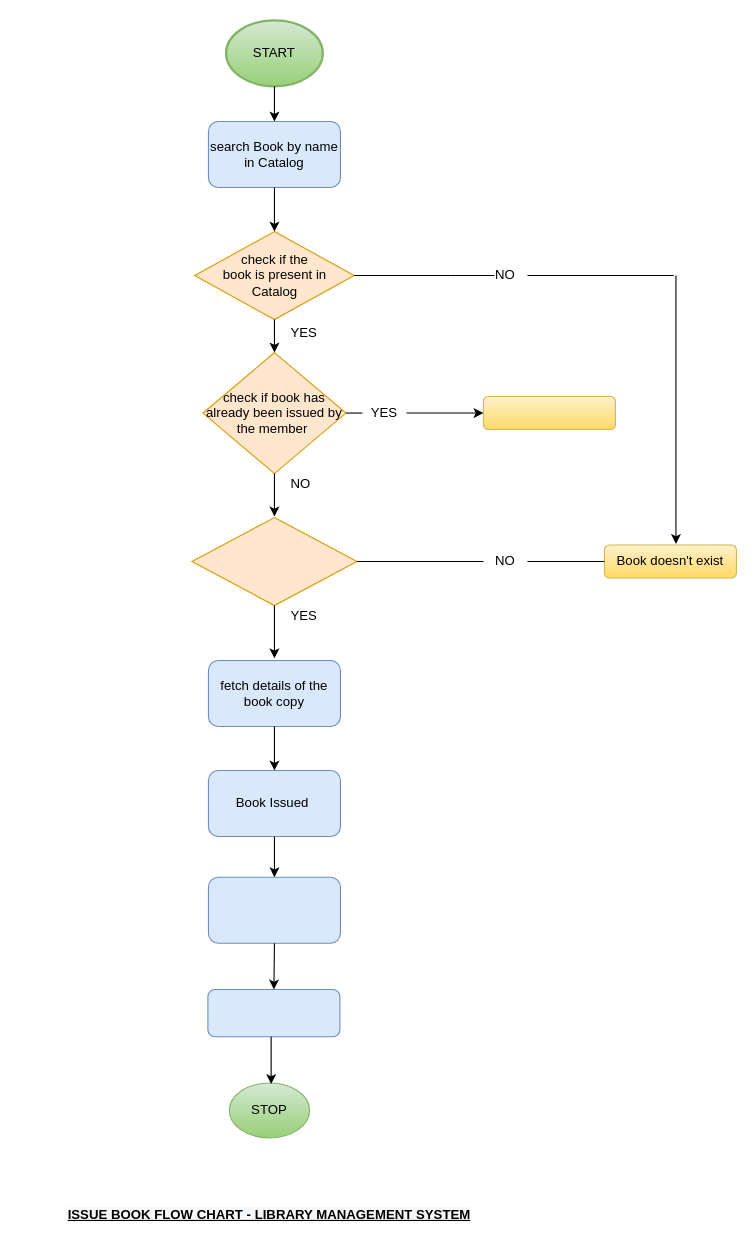
Some shapes in this 756 by 1244 pixel diagram are drawn without their labels. Each missing label, with the box of its shape:
Already Issued: (482, 395, 615, 430)
Catalog Updated: (207, 988, 340, 1037)
check availability of book item: (191, 516, 357, 606)
update member's book issue record: (207, 876, 340, 943)
